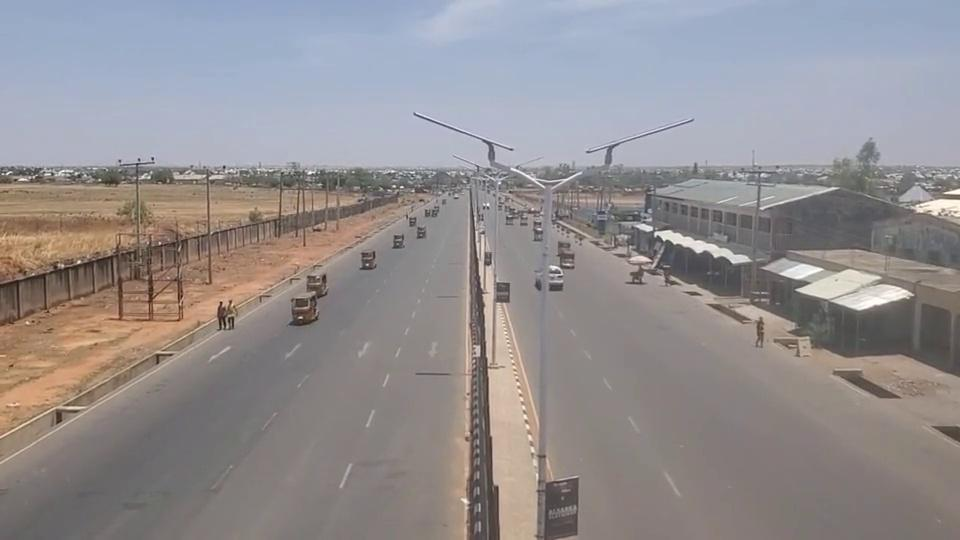car: (533, 264, 563, 290)
keke: (292, 292, 320, 326), (308, 273, 326, 295), (361, 250, 378, 270), (560, 249, 576, 270), (392, 232, 405, 249), (557, 240, 572, 250), (505, 211, 516, 224), (417, 225, 426, 238), (519, 212, 528, 225), (408, 215, 417, 226)
